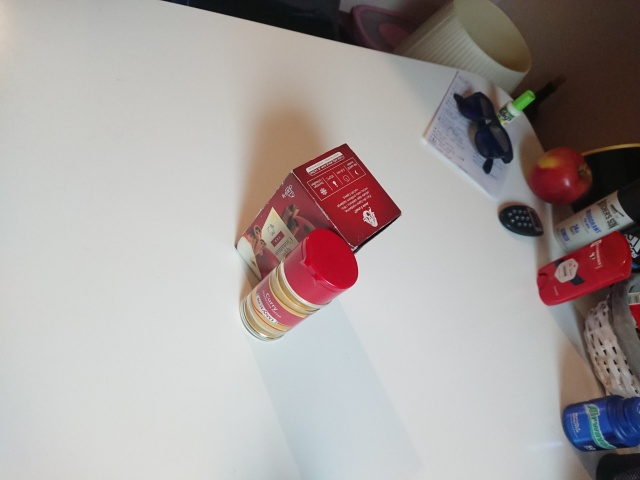Franck Apple Cinnamon Tea 60g: (232, 139, 406, 308)
Kotanyi Curry Spices Mix 70g: (237, 225, 360, 344)
